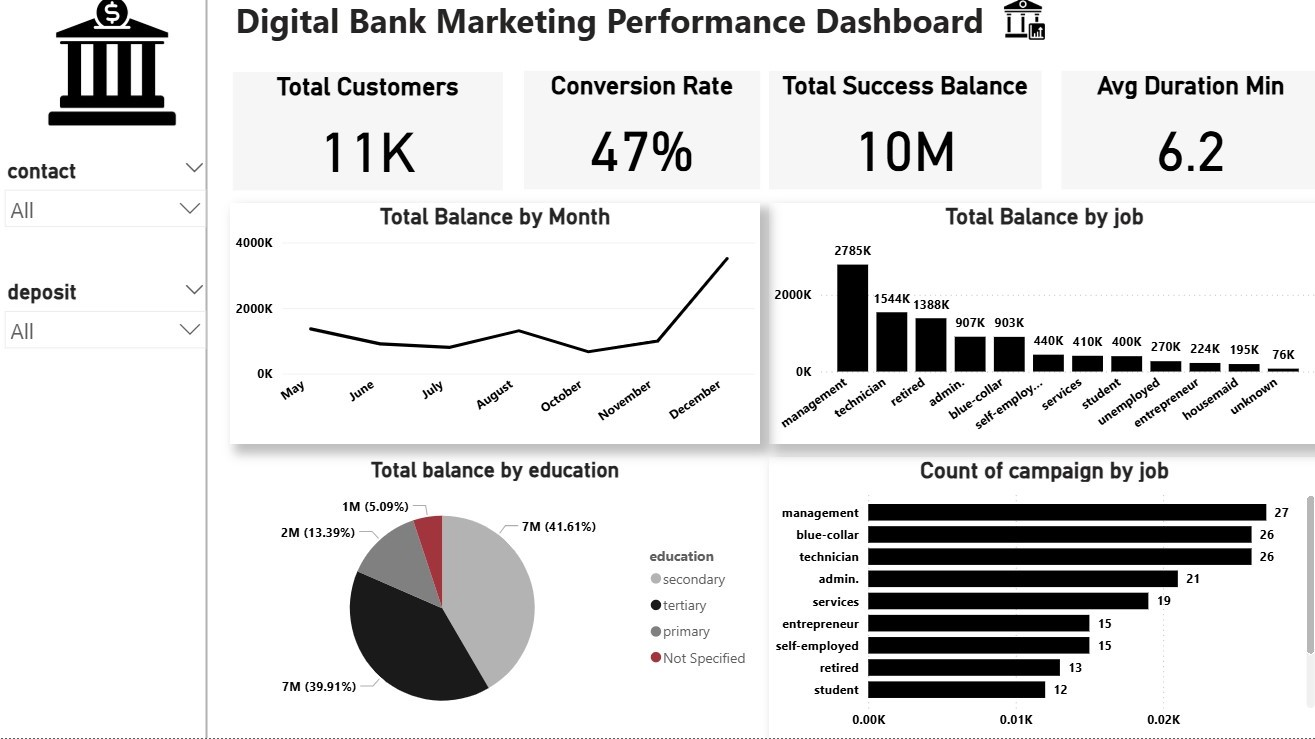

The page's visual inventory and layout, read from the dashboard file:
{"tool":"powerbi","page":{"name":"Overview","canvas":[1280,720],"ordinal":0},"visuals":[{"type":"card","title":"Total Customers","fields":{"Values":["bank.Total Customers"]},"box":[230,77,260.6,114],"z":0},{"type":"shape","box":[51.9,0,306.4,720.2],"z":1000},{"type":"card","title":"Conversion Rate","fields":{"Values":["bank.Conversion Rate"]},"box":[511.5,76,228,114.6],"z":2000},{"type":"card","title":"Total Success Balance","fields":{"Values":["bank.Total Balance"]},"box":[748,76,263,114.6],"z":3000},{"type":"textbox","box":[228,0,826.4,67.6],"z":4000},{"type":"card","title":"Avg Duration Min","fields":{"Values":["bank.Avg\\ Duration\\ Min"]},"box":[1030.3,76,249.7,114.6],"z":5000},{"type":"columnChart","title":"Total Balance by job","fields":{"Category":["bank.job"],"Y":["bank.Total Balance"]},"box":[748,203.9,532,231.6],"z":6000},{"type":"lineChart","title":"Total Balance by Month","fields":{"Y":["bank.Total Balance"],"Category":["bank.Full_Date_Column.Variation.Date Hierarchy.Month"]},"box":[228,203.9,511.5,231.6],"z":7000},{"type":"clusteredBarChart","title":"Count of campaign by job","fields":{"Y":["Count(bank.campaign)"],"Category":["bank.job"]},"box":[748,448.8,532,271.4],"z":8000},{"type":"slicer","fields":{"Values":["bank.contact"]},"box":[0,155.6,214.7,144.8],"z":9000},{"type":"slicer","fields":{"Values":["bank.deposit"]},"box":[0,272.7,214.7,144.8],"z":10000},{"type":"pieChart","title":"Total balance by education","fields":{"Category":["bank.education"],"Y":["Sum(bank.balance)"]},"box":[228,448.8,511.5,269],"z":11000},{"type":"image","box":[844.5,0,300.4,51.9],"z":13000},{"type":"image","box":[0,0,228,133.9],"z":13001}]}

Visuals, with their boxes on the page's 1280x720 design canvas (x1, y1, x2, y2). These are canvas units, not pixel positions in the 1315x739 screenshot, which may show the page scaled, cropped or inside an application window:
"Total Customers" card: x1=230, y1=77, x2=491, y2=191
shape: x1=52, y1=0, x2=358, y2=720
"Conversion Rate" card: x1=512, y1=76, x2=740, y2=191
"Total Success Balance" card: x1=748, y1=76, x2=1011, y2=191
textbox: x1=228, y1=0, x2=1054, y2=68
"Avg Duration Min" card: x1=1030, y1=76, x2=1280, y2=191
"Total Balance by job" columnChart: x1=748, y1=204, x2=1280, y2=436
"Total Balance by Month" lineChart: x1=228, y1=204, x2=740, y2=436
"Count of campaign by job" clusteredBarChart: x1=748, y1=449, x2=1280, y2=720
slicer - bank.contact: x1=0, y1=156, x2=215, y2=300
slicer - bank.deposit: x1=0, y1=273, x2=215, y2=418
"Total balance by education" pieChart: x1=228, y1=449, x2=740, y2=718
image: x1=844, y1=0, x2=1145, y2=52
image: x1=0, y1=0, x2=228, y2=134
